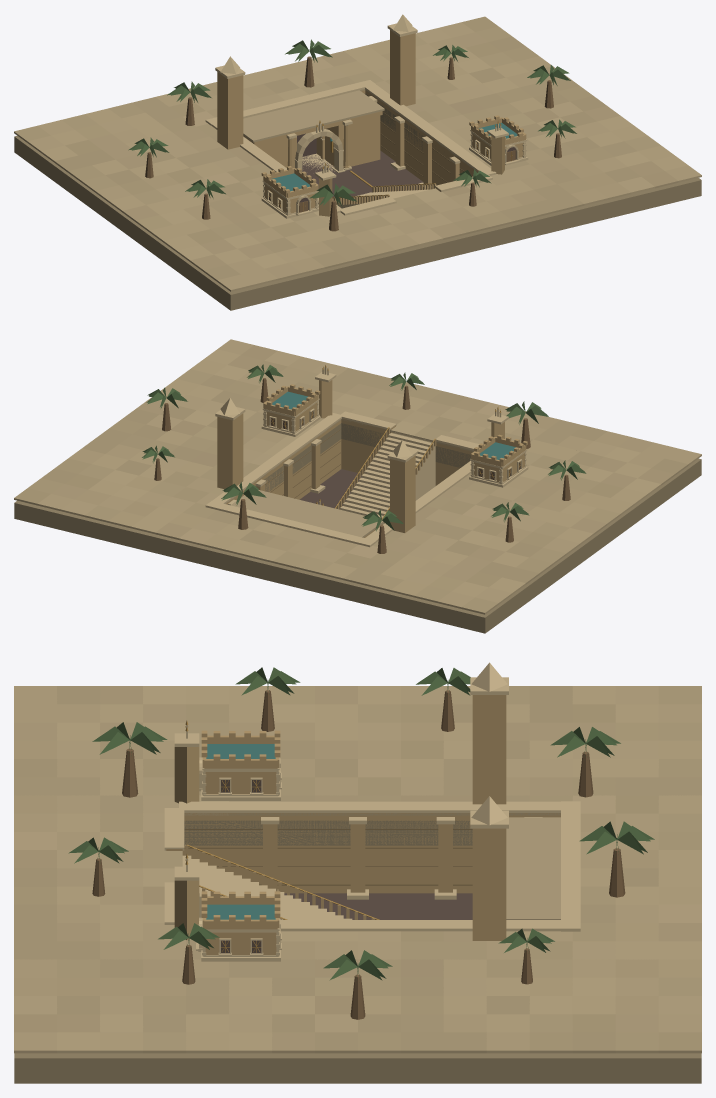
The model's file is labyrinth.glb.
3 views of the same model, one above another, from view 1: azimuth 30°, elevation 25°; view 2: azimuth 150°, elevation 25°; view 3: azimuth 270°, elevation 25° (orthographic). The views are drawn at different scales.
Parts seen in each view (by area): view 1: site, excavation, survey-camp, landscape, portal, portal-roof, survey-camp-roof, descending-stair; view 2: site, excavation, survey-camp, landscape, descending-stair, portal-roof, survey-camp-roof; view 3: site, excavation, survey-camp, landscape, survey-camp-roof, portal-roof, descending-stair.
Part boxes in pixels (x1,y1,x2,y2): site: (14,16,701,310); excavation: (205,80,496,215); survey-camp: (215,23,528,218); landscape: (128,39,576,231); portal: (256,115,380,172); portal-roof: (243,90,384,145); survey-camp-roof: (220,14,526,197); descending-stair: (332,170,436,208); site: (14,339,701,633); excavation: (205,411,479,547); survey-camp: (215,372,528,532); landscape: (142,364,586,553); descending-stair: (335,427,436,524); portal-roof: (231,490,384,537); survey-camp-roof: (220,384,527,466); site: (14,686,701,1083); excavation: (164,801,580,931); survey-camp: (174,677,508,961); landscape: (68,667,654,1019); survey-camp-roof: (201,662,507,929); portal-roof: (506,817,560,919); descending-stair: (182,844,379,919).
Bounding box in the file's own units: 59.01 × 16.85 × 47.06.
